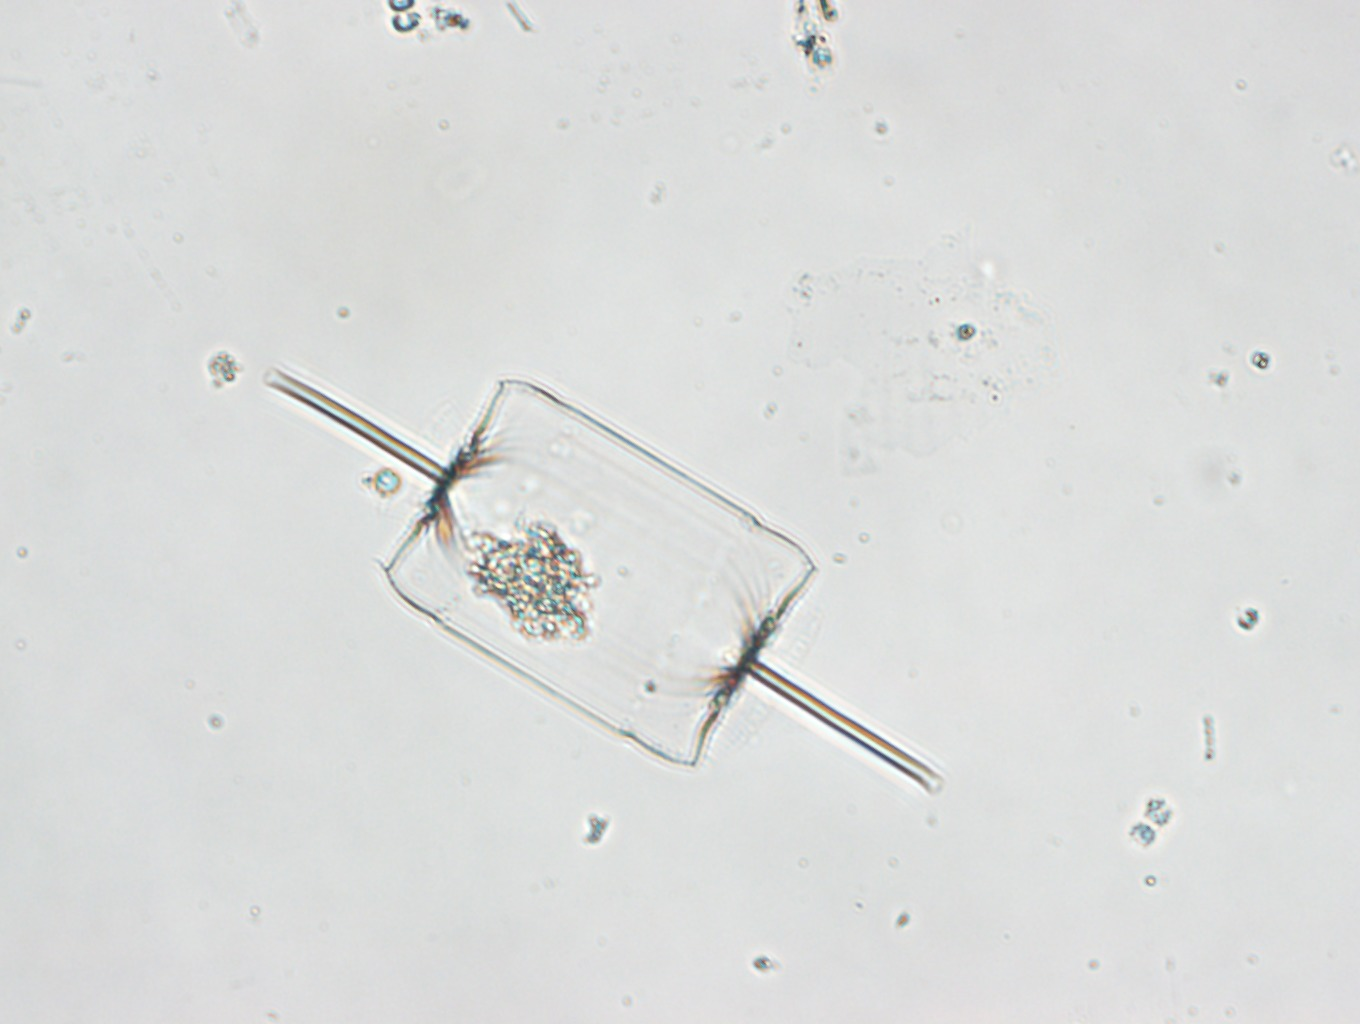ditylum: (262, 364, 945, 796)
